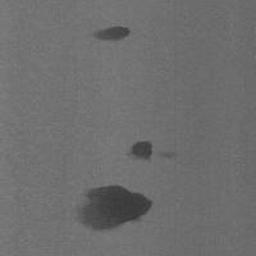Oil spot: (73, 183, 154, 234), (125, 140, 178, 163), (90, 24, 132, 44)
